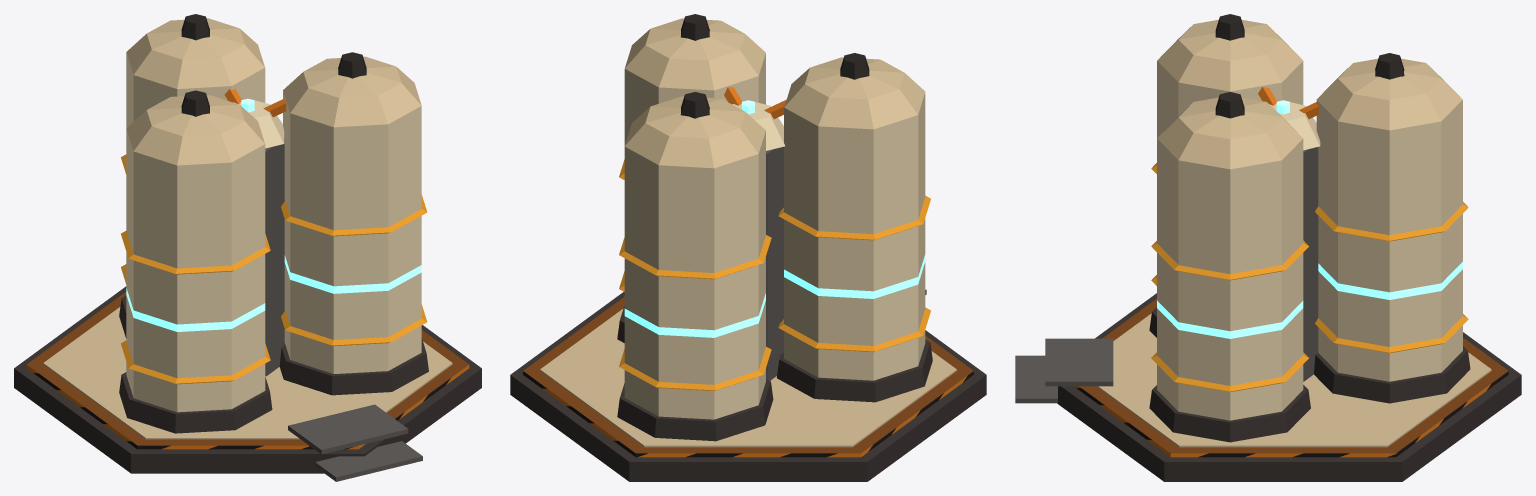
The model's file is baterie-T4-trojcata.glb.
3 views of the same model, side by side, from view 1: azimuth 30°, elevation 25°; view 2: azimuth 150°, elevation 25°; view 3: azimuth 270°, elevation 25° (orthographic).
Parts seen in each view (by area): view 1: baterie-T4-trojcata; view 2: baterie-T4-trojcata; view 3: baterie-T4-trojcata.
Part boxes in pixels (x1,y1,x2,y2): baterie-T4-trojcata: (14,14,481,481); baterie-T4-trojcata: (510,14,986,481); baterie-T4-trojcata: (1015,14,1521,481).
Bounding box in the file's own units: 4.85 × 4.37 × 5.95.
9 materials, 1 textured.
